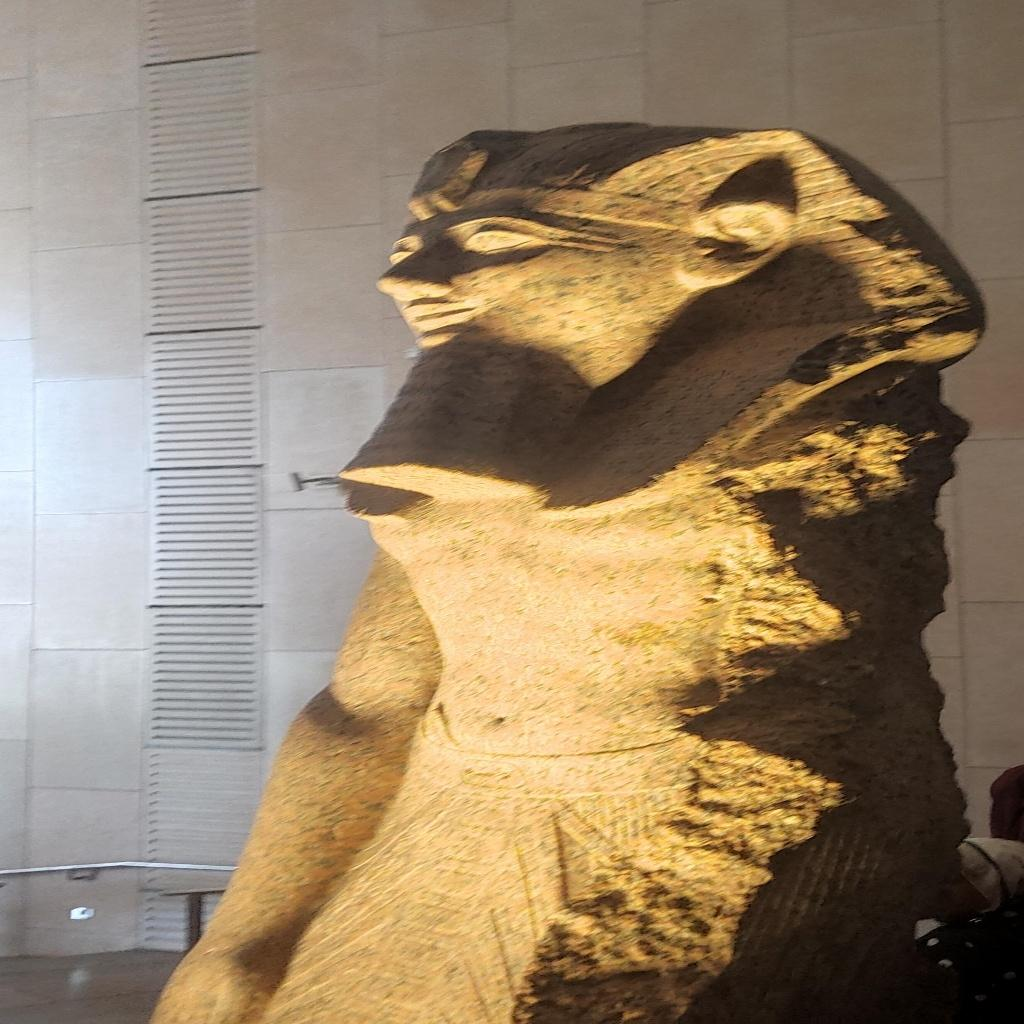Standing Statue of Thutmose III: (146, 118, 994, 1020)
